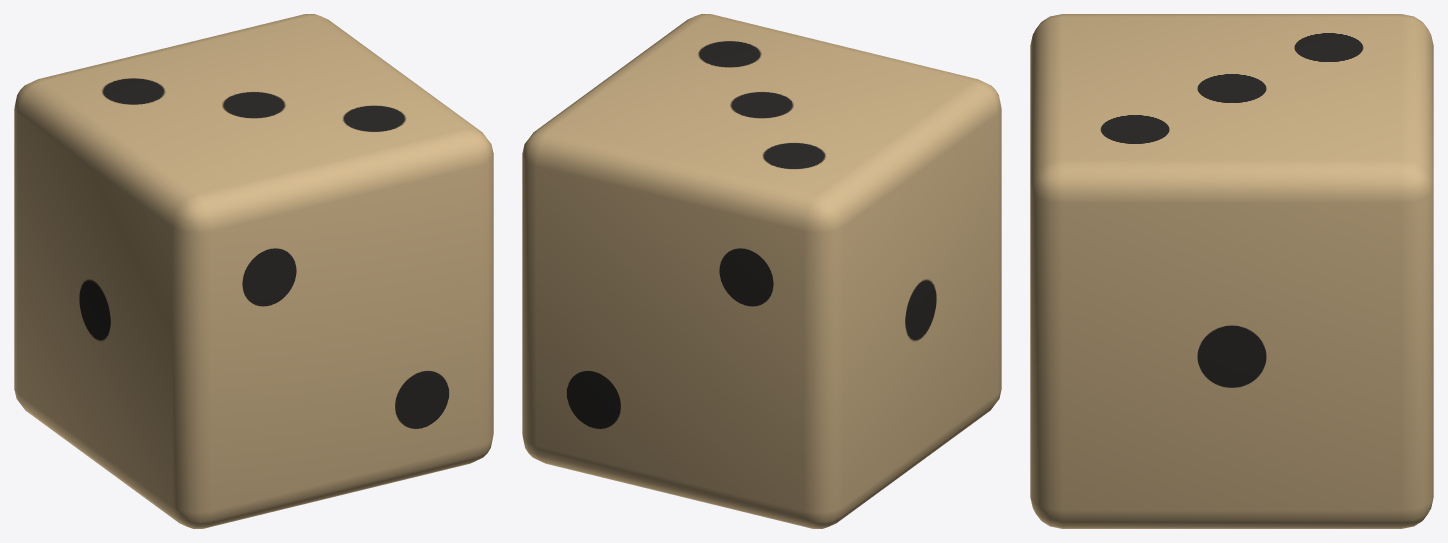
The model's file is die.glb.
3 views of the same model, side by side, from view 1: azimuth 30°, elevation 25°; view 2: azimuth 150°, elevation 25°; view 3: azimuth 270°, elevation 25° (orthographic). The views are drawn at different scales.
Parts seen in each view (by area): view 1: die; view 2: die; view 3: die.
Boxes of the visible parts, box(x1,y1,x2,y2) form: die: box(14, 14, 493, 528); die: box(522, 14, 1001, 528); die: box(1030, 14, 1433, 528).
Size of the model in its own units: 0.016 by 0.016 by 0.016.
4 materials, 3 textured.
